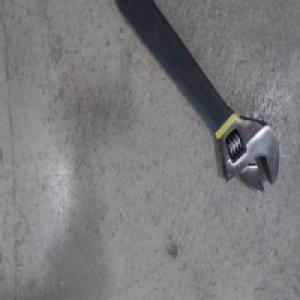AdjustableWrench: (119, 0, 281, 197)
